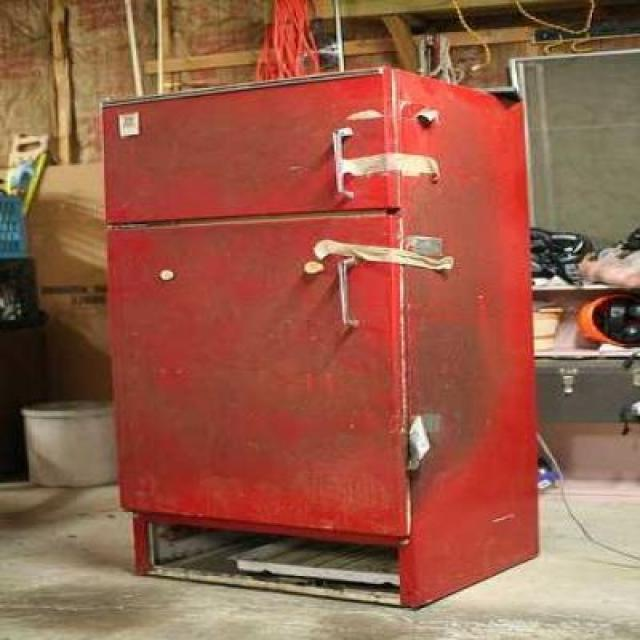refrigerator: (104, 66, 411, 614)
